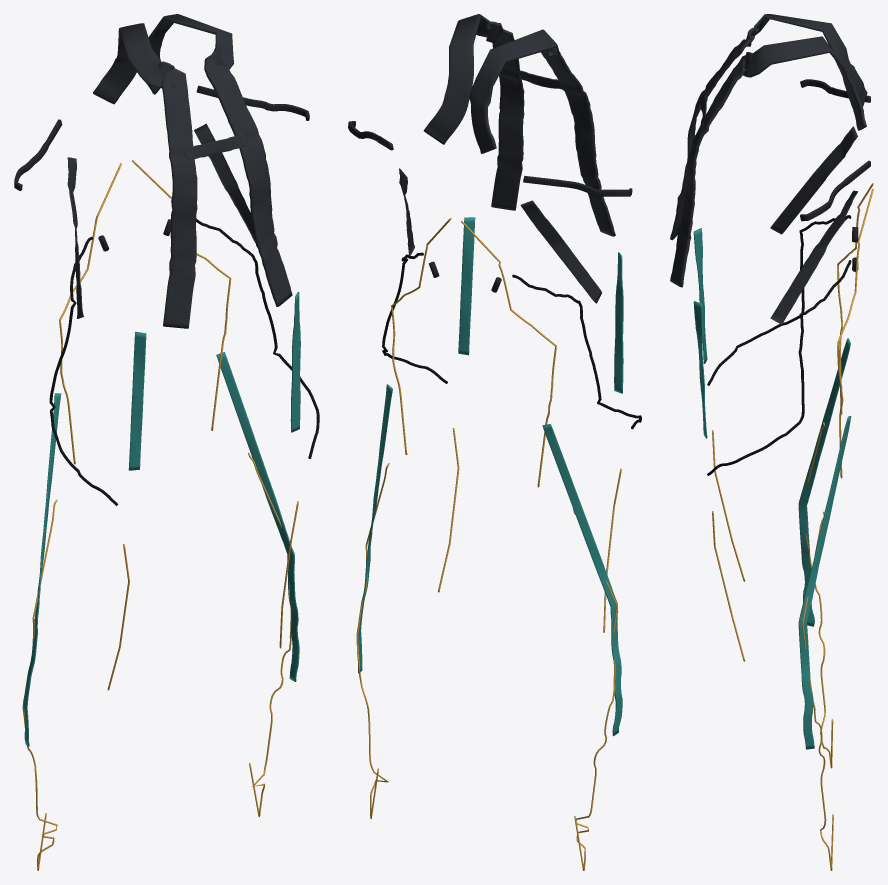
Rendered from sitka_cables_stand.glb.
The picture shows the model from 3 angles, left to right: view 1: azimuth 30°, elevation 25°; view 2: azimuth 150°, elevation 25°; view 3: azimuth 270°, elevation 25°; orthographic projection. The views are drawn at different scales.
Parts seen in each view (by area): view 1: harness_r, harness_l, hamstring_band_l, m3_band_r, hamstring_band_r, crazycreek_l, m3_band_l, bowden_r, bowden_l, crazycreek_r, sternum_strap, t3_tendon_r (+4 smaller); view 2: harness_l, harness_r, hamstring_band_r, crazycreek_r, m3_band_l, hamstring_band_l, m3_band_r, m5_lever_r, bowden_r, calf_band_l, t3_tendon_r, calf_band_r (+2 smaller); view 3: harness_l, harness_r, hamstring_band_l, hamstring_band_r, crazycreek_r, crazycreek_l, bowden_l, bowden_r, m3_band_l, m3_band_r, t3_tendon_l, calf_band_r (+4 smaller).
Boxes of the visible parts, x1=… form: harness_r: x1=93, y1=23, x2=197, y2=328; harness_l: x1=147, y1=14, x2=292, y2=306; hamstring_band_l: x1=216, y1=352, x2=299, y2=681; m3_band_r: x1=128, y1=331, x2=146, y2=470; hamstring_band_r: x1=23, y1=393, x2=61, y2=746; crazycreek_l: x1=194, y1=123, x2=255, y2=243; m3_band_l: x1=290, y1=292, x2=300, y2=432; bowden_r: x1=49, y1=236, x2=118, y2=505; bowden_l: x1=196, y1=218, x2=319, y2=458; crazycreek_r: x1=67, y1=157, x2=83, y2=318; sternum_strap: x1=183, y1=134, x2=247, y2=160; t3_tendon_r: x1=59, y1=163, x2=121, y2=464; harness_l: x1=423, y1=14, x2=524, y2=210; harness_r: x1=469, y1=29, x2=615, y2=236; hamstring_band_r: x1=542, y1=424, x2=622, y2=736; crazycreek_r: x1=520, y1=200, x2=601, y2=303; m3_band_l: x1=458, y1=217, x2=475, y2=355; hamstring_band_l: x1=358, y1=384, x2=392, y2=673; m3_band_r: x1=614, y1=252, x2=623, y2=393; m5_lever_r: x1=523, y1=175, x2=632, y2=196; bowden_r: x1=512, y1=274, x2=641, y2=429; calf_band_l: x1=356, y1=463, x2=389, y2=818; t3_tendon_r: x1=461, y1=221, x2=556, y2=487; calf_band_r: x1=573, y1=508, x2=617, y2=870; harness_l: x1=670, y1=36, x2=866, y2=287; harness_r: x1=670, y1=14, x2=867, y2=240; hamstring_band_l: x1=798, y1=416, x2=851, y2=749; hamstring_band_r: x1=798, y1=338, x2=850, y2=626; crazycreek_r: x1=770, y1=126, x2=857, y2=234; crazycreek_l: x1=770, y1=190, x2=857, y2=324; bowden_l: x1=707, y1=260, x2=851, y2=475; bowden_r: x1=707, y1=215, x2=851, y2=385; m3_band_l: x1=693, y1=301, x2=707, y2=438; m3_band_r: x1=693, y1=228, x2=707, y2=363; t3_tendon_l: x1=837, y1=188, x2=873, y2=478; calf_band_r: x1=805, y1=422, x2=831, y2=768.
Bounding box in the file's own units: 0.5852 × 1.58 × 0.3696.
